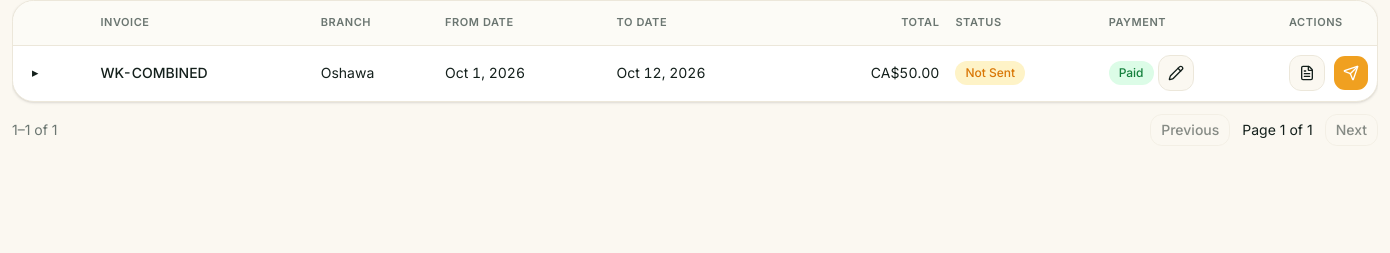
Test: allows editing an unsent paid invoice while protecting its payment from undo
This screenshot has width=1390, height=253.
Click the button named "Show orders for WK-COMBINED" at (35, 73), box [21,59,49,87]
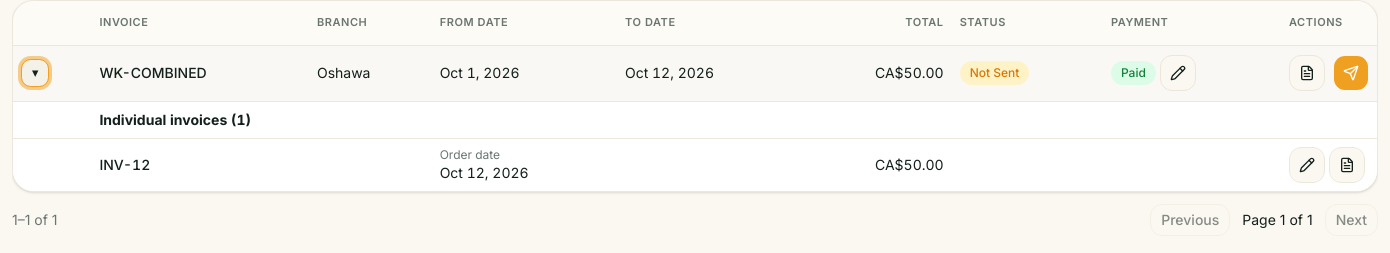
Expected: the link named "Edit invoice" is shown, [1289,146,1325,182]
